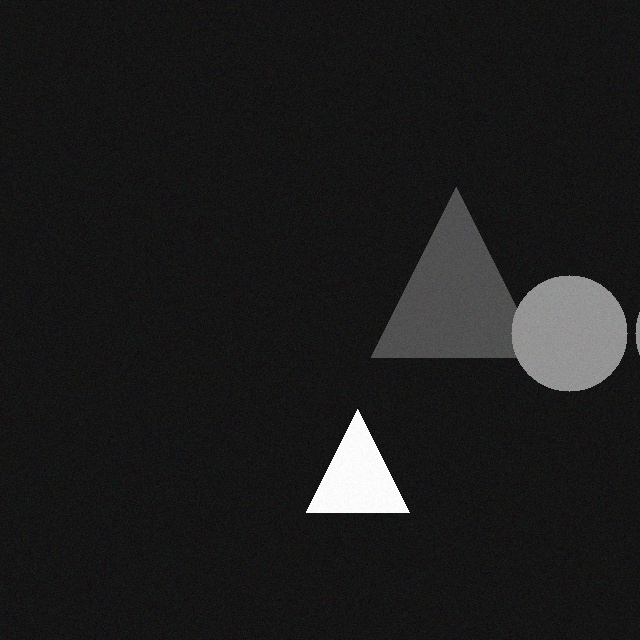circle: (519, 290, 635, 406)
triangle: (379, 202, 549, 372), (314, 424, 417, 527)
